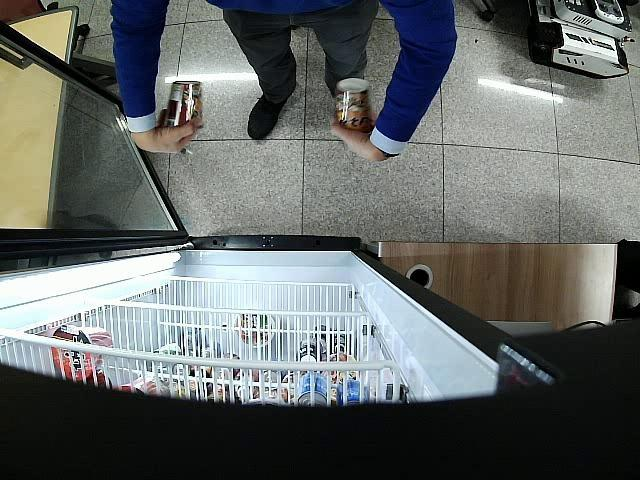06_nuguri_S: (334, 78, 373, 132), (166, 80, 204, 129)
